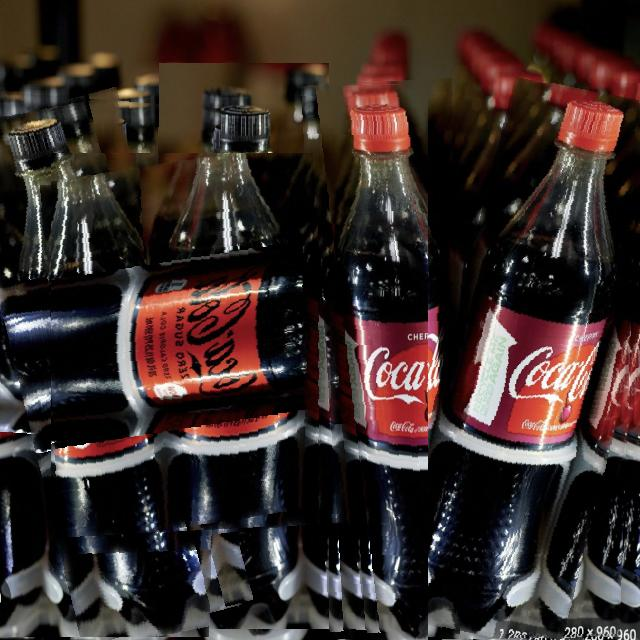recyclable: (51, 153, 437, 539), (0, 92, 221, 637), (428, 83, 640, 640), (308, 80, 473, 640)
